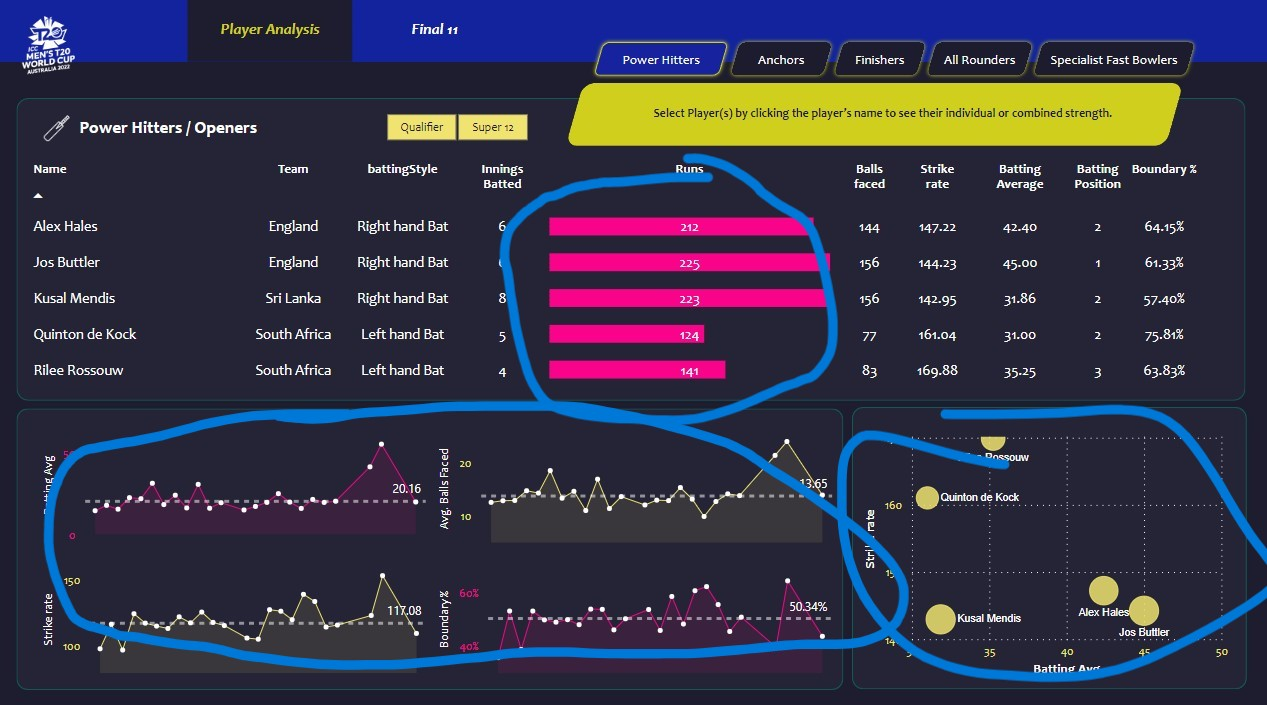

This screenshot's page, from the dashboard's own definition file:
{"tool":"powerbi","page":{"name":"Power Hitters / Openers","canvas":[1280,720],"ordinal":0},"visuals":[{"type":"shape","box":[0,66,1280,654],"z":0},{"type":"card","fields":{"Values":["Key_Measures.Strike rate"]},"box":[867,89,93,60],"z":0,"group":"g2"},{"type":"group","id":"g1","title":"Group 2","box":[83.8,116.2,260,31.2],"z":0,"group":"g3"},{"type":"shape","box":[83.8,116.2,260,31.2],"z":0,"group":"g1"},{"type":"card","fields":{"Values":["Key_Measures.Bat Avg"]},"box":[768,89,92,60],"z":1000,"group":"g2"},{"type":"image","box":[38,114,44,36],"z":1000,"group":"g3"},{"type":"shape","box":[20,414.4,832.2,283.3],"z":1000},{"type":"actionButton","box":[734,42.6,111,42],"z":2000},{"type":"card","fields":{"Values":["Key_Measures.Boundary %"]},"box":[1063.6,92.3,110,56.7],"z":2000,"group":"g2"},{"type":"actionButton","box":[596,42.6,144,42],"z":3000},{"type":"card","fields":{"Values":["Key_Measures.Avergate Balls Faced"]},"box":[966,89,101,60],"z":3000,"group":"g2"},{"type":"actionButton","box":[838,42.6,101,42],"z":4000},{"type":"actionButton","box":[932,42.6,115,42],"z":5000},{"type":"actionButton","box":[1039,42.6,171,42],"z":6000},{"type":"image","box":[19.2,15.4,63.4,69.2],"z":7000},{"type":"areaChart","fields":{"Category":["dim_match_summary.Match_Date.Variation.Date Hierarchy.Day"],"Y":["Key_Measures.Boundary %"]},"box":[438.8,560,406.2,126.2],"z":9000},{"type":"shape","box":[860,414,397,284],"z":10000},{"type":"areaChart","fields":{"Category":["dim_match_summary.Match_Date.Variation.Date Hierarchy.Day"],"Y":["Key_Measures.Avergate Balls Faced"]},"box":[438.8,428.8,406.2,126.2],"z":11000},{"type":"areaChart","fields":{"Category":["dim_match_summary.Match_Date.Variation.Date Hierarchy.Day"],"Y":["Key_Measures.Bat Avg"]},"box":[40,428.9,395.6,126.7],"z":12000},{"type":"areaChart","fields":{"Category":["dim_match_summary.Match_Date.Variation.Date Hierarchy.Day"],"Y":["Key_Measures.Strike rate"]},"box":[40,560,396.2,126.2],"z":13000},{"type":"shape","box":[20,102.2,1236.7,304.4],"z":14000},{"type":"slicer","fields":{"Values":["dim_match_summary.stage"]},"box":[366.7,111.1,191.1,38.9],"z":15000},{"type":"shape","box":[572,88,622,63],"z":16000},{"type":"shape","box":[591,103,173,34],"z":17000},{"type":"group","id":"g2","title":"Combined Perfoamce Metrices","box":[768,89,405.6,60],"z":18000},{"type":"group","id":"g3","title":"Group 1","box":[38,114,305.8,36],"z":19000},{"type":"tableEx","fields":{"Values":["dim_player.name","dim_player.team","dim_player.Batting Style","Key_Measures.Total Matches","Key_Measures.Total Runs","Key_Measures.total balls faced","Key_Measures.Strike rate","Key_Measures.Bat Avg","Key_Measures.Batting Position","Key_Measures.Boundary %"]},"box":[26,151,1231,255],"z":20000},{"type":"scatterChart","fields":{"Y":["Key_Measures.Strike rate"],"Category":["dim_player.name"],"X":["Key_Measures.Bat Avg"],"Size":["Key_Measures.Total Runs"]},"box":[866.7,430,377.8,258.9],"z":21000},{"type":"actionButton","title":"Button Player Ana selected","box":[191,0,166,66],"z":22000},{"type":"actionButton","title":"Button Player Ana selected","box":[357,0,166,66],"z":23000},{"type":"shape","box":[612,100,560,36],"z":24000}]}

Visuals, with their boxes in screenshot pixels (x1, y1, x2, y2), scaled from the page's 1280x720 canvas onto the 1267x705 screenshot:
shape: <box>0,65,1266,704</box>
card - Key_Measures.Strike rate: <box>858,87,950,146</box>
"Group 2" group: <box>83,114,340,144</box>
shape: <box>83,114,340,144</box>
card - Key_Measures.Bat Avg: <box>760,87,851,146</box>
image: <box>38,112,81,147</box>
shape: <box>20,406,844,683</box>
actionButton: <box>727,42,836,83</box>
card - Key_Measures.Boundary %: <box>1053,90,1162,146</box>
actionButton: <box>590,42,732,83</box>
card - Key_Measures.Avergate Balls Faced: <box>956,87,1056,146</box>
actionButton: <box>829,42,929,83</box>
actionButton: <box>923,42,1036,83</box>
actionButton: <box>1028,42,1198,83</box>
image: <box>19,15,82,83</box>
areaChart - dim_match_summary.Match_Date.Variation.Date Hierarchy.Day x Key_Measures.Boundary %: <box>434,548,836,672</box>
shape: <box>851,405,1244,683</box>
areaChart - dim_match_summary.Match_Date.Variation.Date Hierarchy.Day x Key_Measures.Avergate Balls Faced: <box>434,420,836,543</box>
areaChart - dim_match_summary.Match_Date.Variation.Date Hierarchy.Day x Key_Measures.Bat Avg: <box>40,420,431,544</box>
areaChart - dim_match_summary.Match_Date.Variation.Date Hierarchy.Day x Key_Measures.Strike rate: <box>40,548,432,672</box>
shape: <box>20,100,1244,398</box>
slicer - dim_match_summary.stage: <box>363,109,552,147</box>
shape: <box>566,86,1182,148</box>
shape: <box>585,101,756,134</box>
"Combined Perfoamce Metrices" group: <box>760,87,1162,146</box>
"Group 1" group: <box>38,112,340,147</box>
tableEx - dim_player.name x dim_player.team: <box>26,148,1244,398</box>
scatterChart - Key_Measures.Strike rate x dim_player.name: <box>858,421,1232,675</box>
"Button Player Ana selected" actionButton: <box>189,0,353,65</box>
"Button Player Ana selected" actionButton: <box>353,0,518,65</box>
shape: <box>606,98,1160,133</box>
